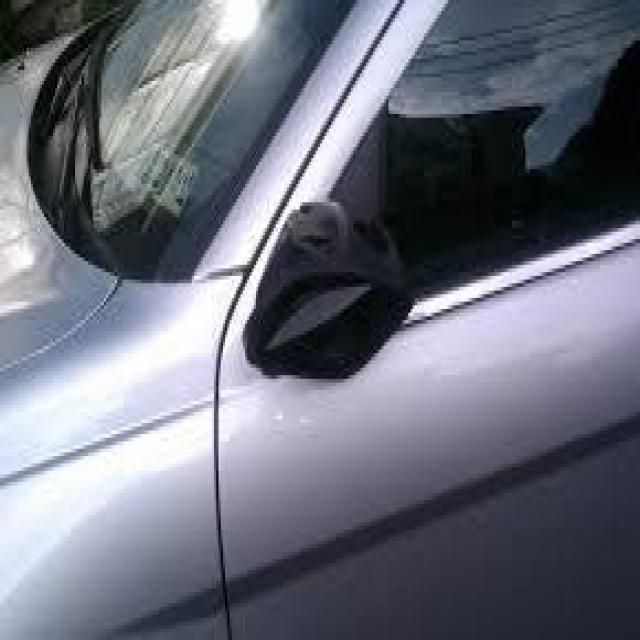damaged: (270, 202, 388, 350)
